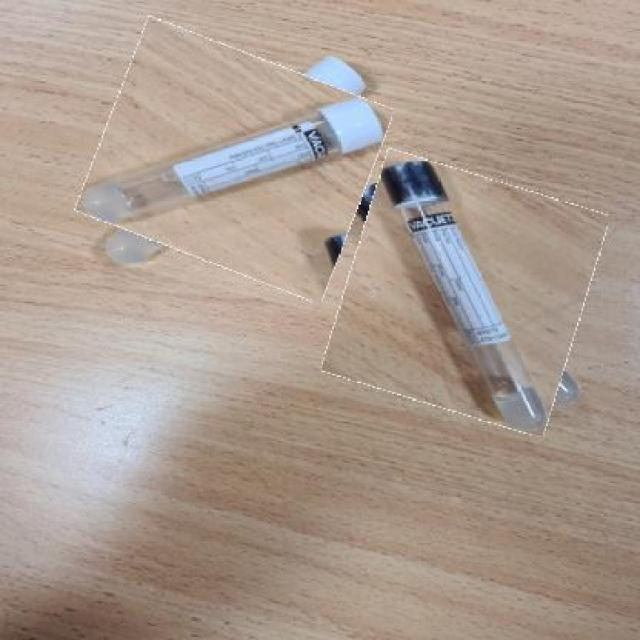Experimental-tube: (88, 35, 381, 283), (336, 163, 596, 423)
